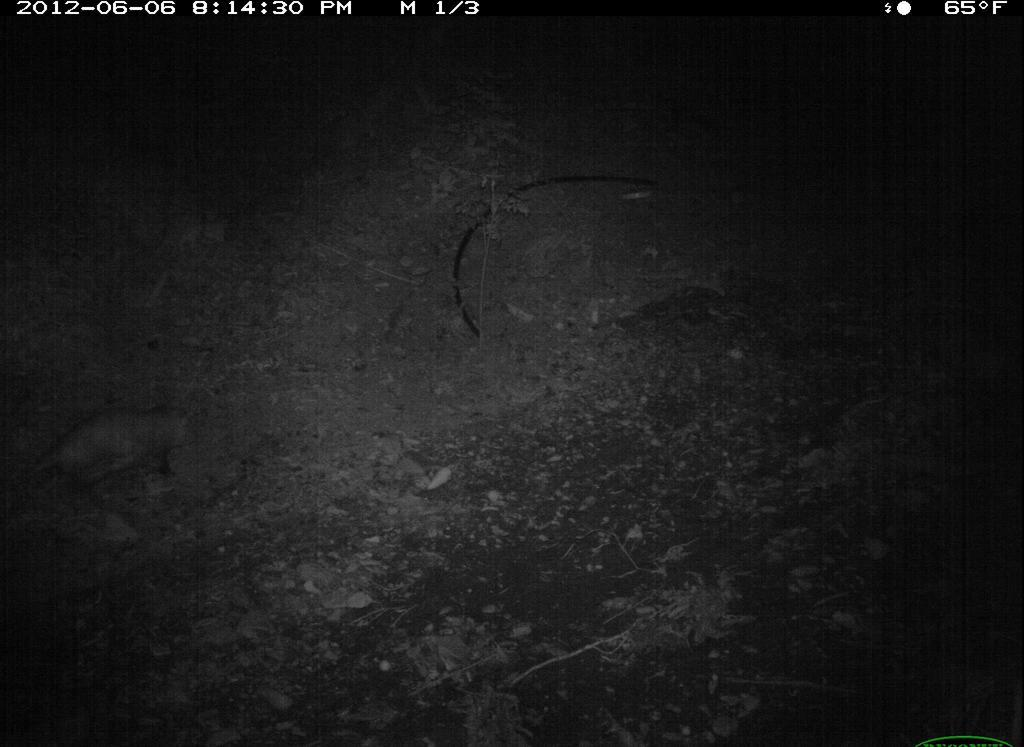opossum: (8, 396, 199, 520)
